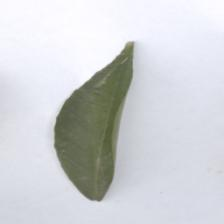healthy: (51, 41, 137, 206)
